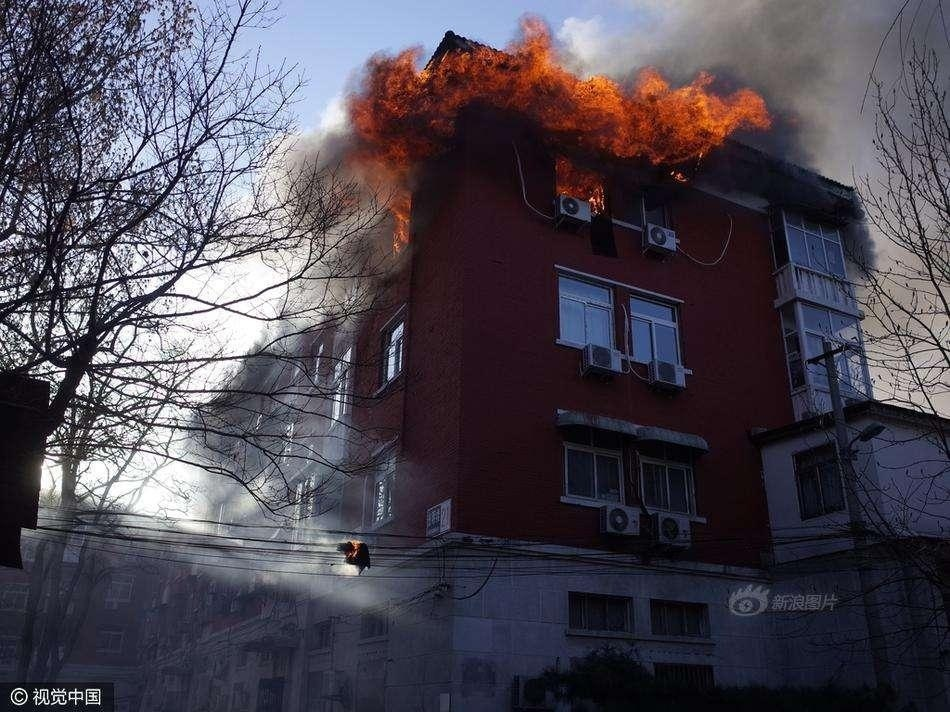fire: (338, 26, 772, 208)
